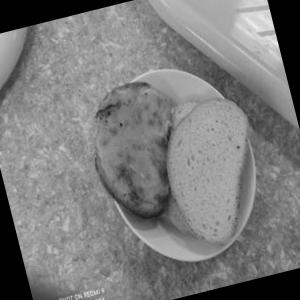bread: (136, 76, 294, 266)
cheese_sandwich: (82, 67, 194, 245)
